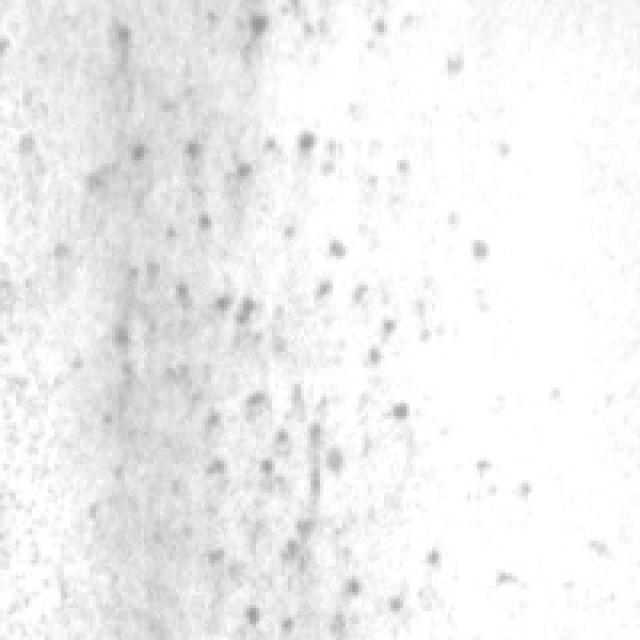pitted_surface: (83, 0, 458, 605)
